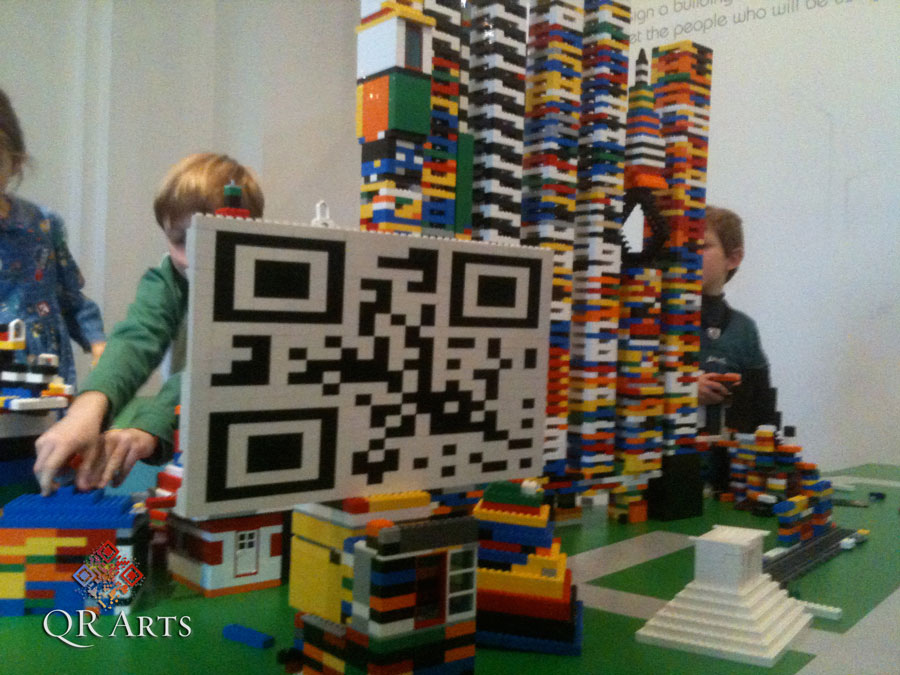QR-CODE: (206, 230, 542, 502)
